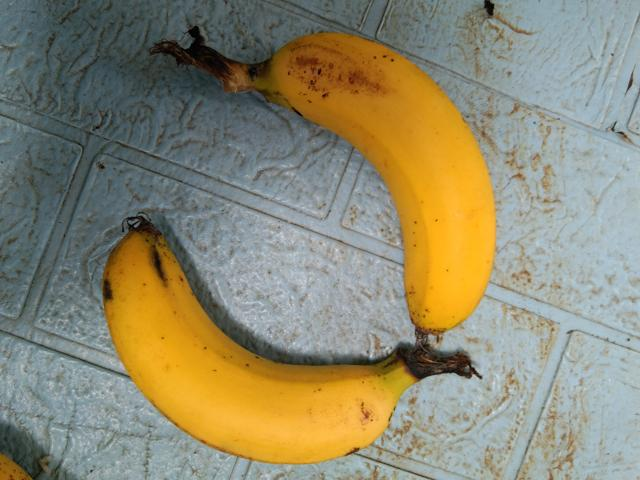freshripe: (89, 204, 412, 475), (266, 18, 507, 346)
